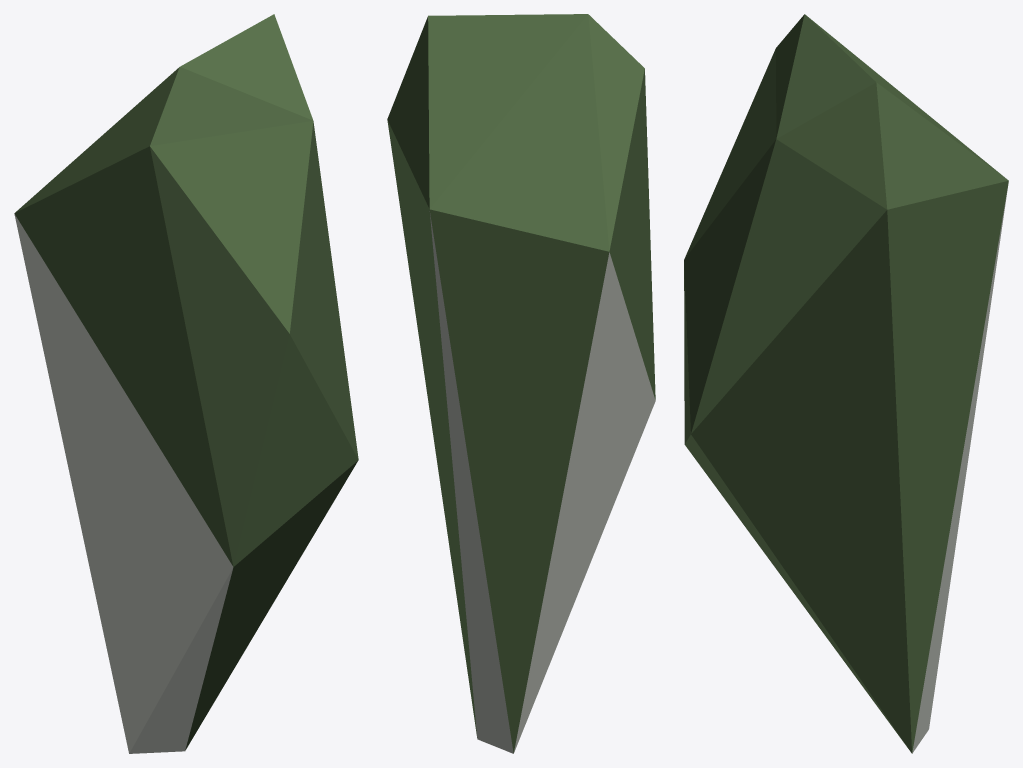
File: BirchTree_2.lod4.glb
3 renders of one model, left to right at view 1: azimuth 30°, elevation 25°; view 2: azimuth 150°, elevation 25°; view 3: azimuth 270°, elevation 25°, orthographic. The views are drawn at different scales.
Visible parts, largest first — view 1: BirchTree_2; view 2: BirchTree_2; view 3: BirchTree_2.
Boxes of the visible parts, x1=… form: BirchTree_2: x1=14, y1=14, x2=358, y2=753; BirchTree_2: x1=387, y1=14, x2=655, y2=753; BirchTree_2: x1=684, y1=14, x2=1008, y2=753.
Bounding box in the file's own units: 1.52 × 4.09 × 1.69.
